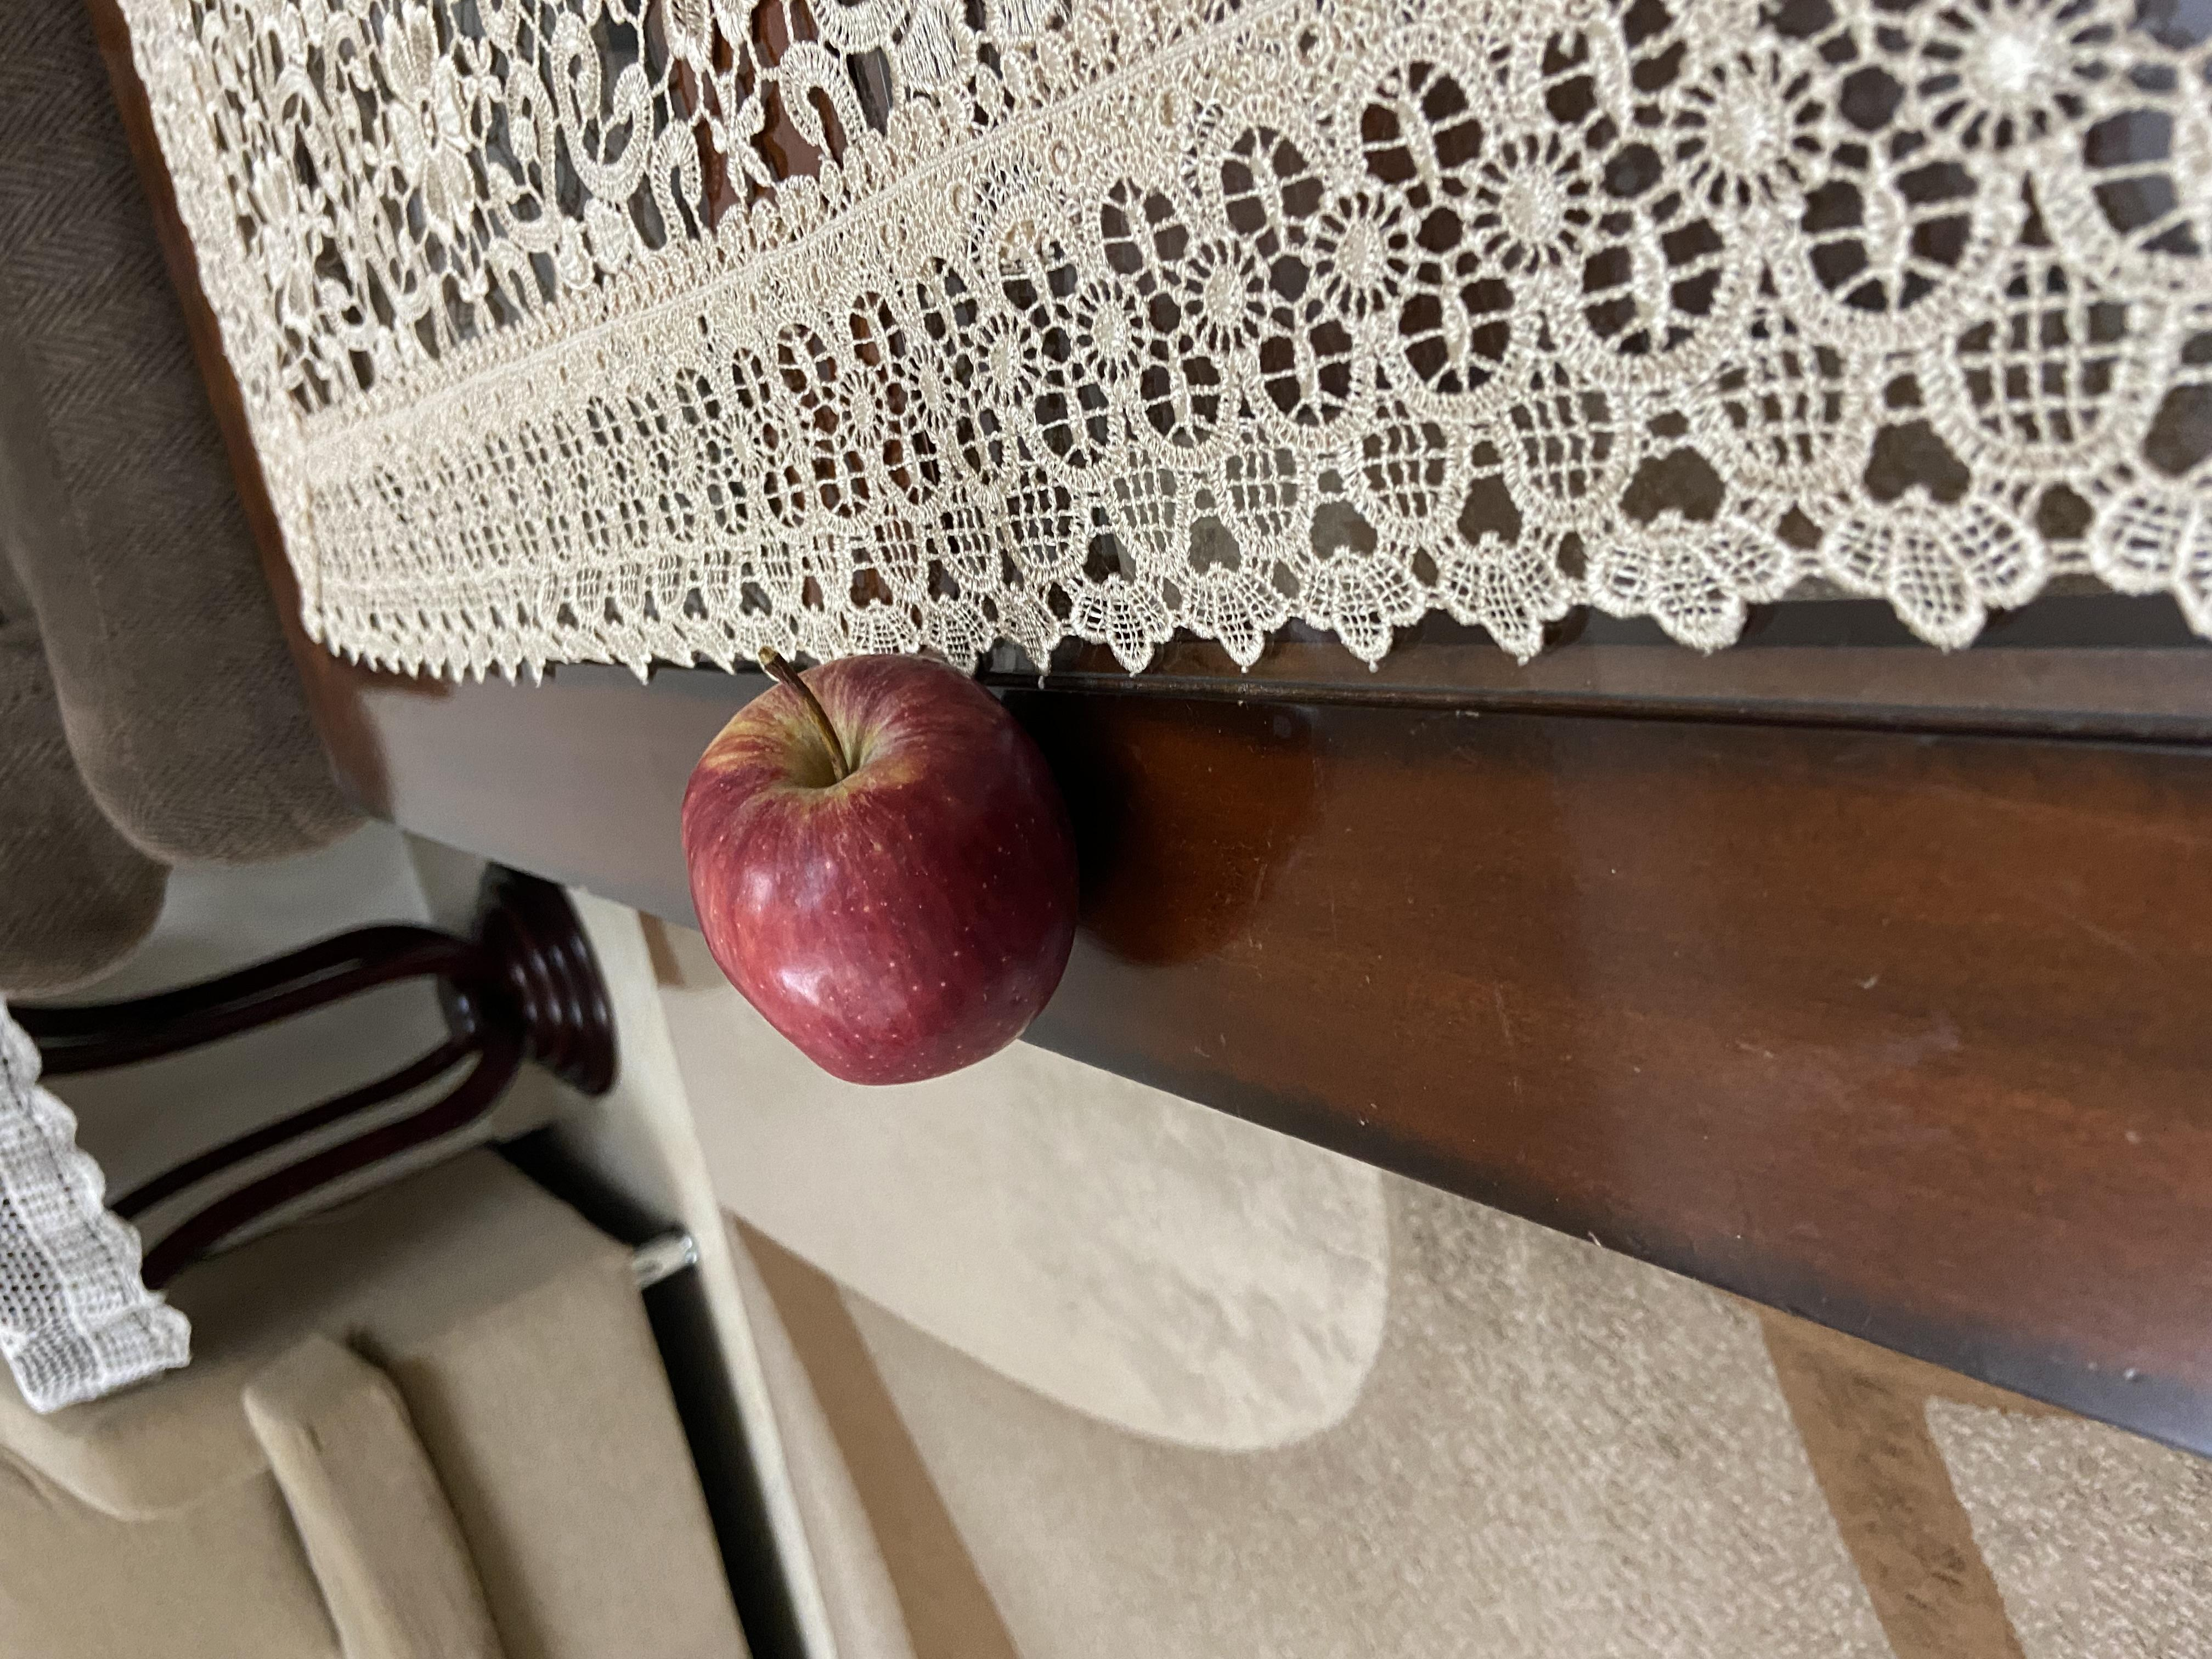Apple: (749, 502, 1361, 811)
